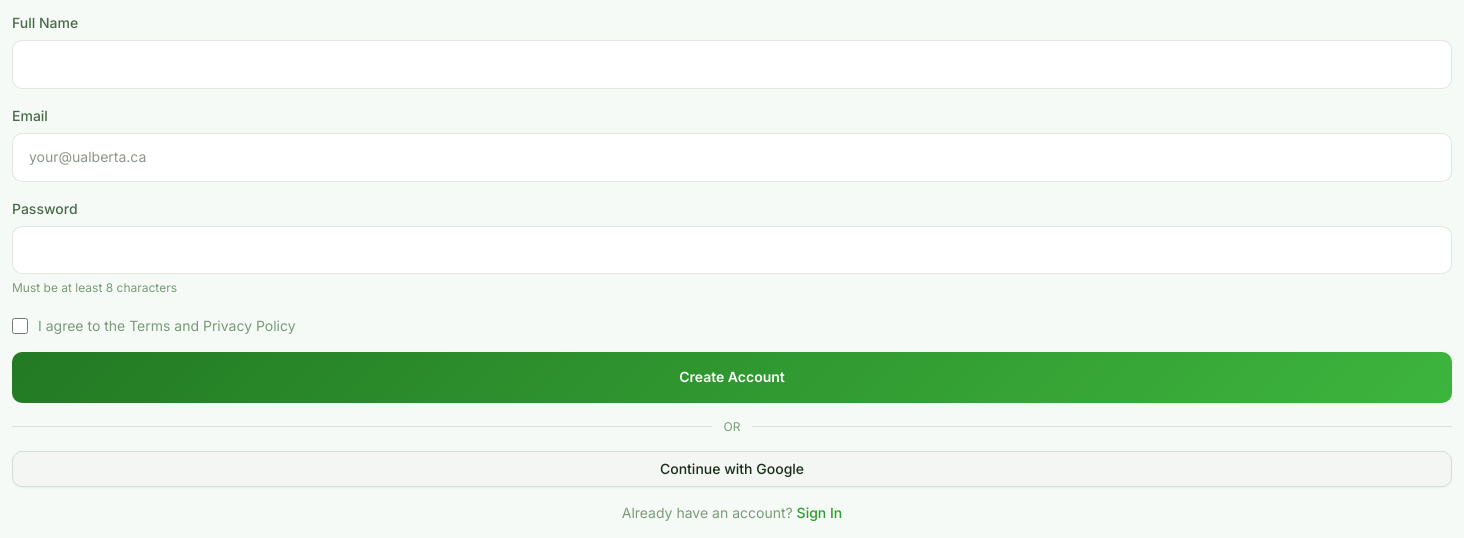
Scenario: SignUpForm › success: handles successful registration
The width and height of the screenshot is (1464, 538).
Type "John Doe" into the field labelled "Full Name" at (732, 65), box [12,40,1452,89]
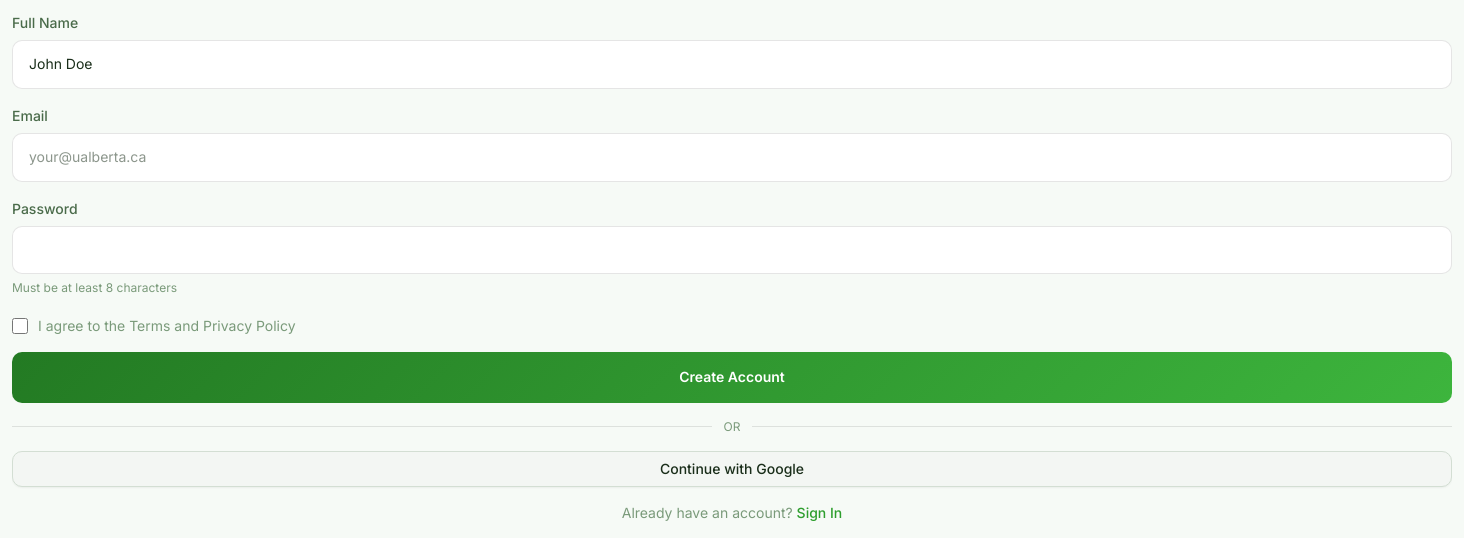
Type "john@ualberta.ca" into the field labelled "Email" at (732, 157), box [12,133,1452,182]
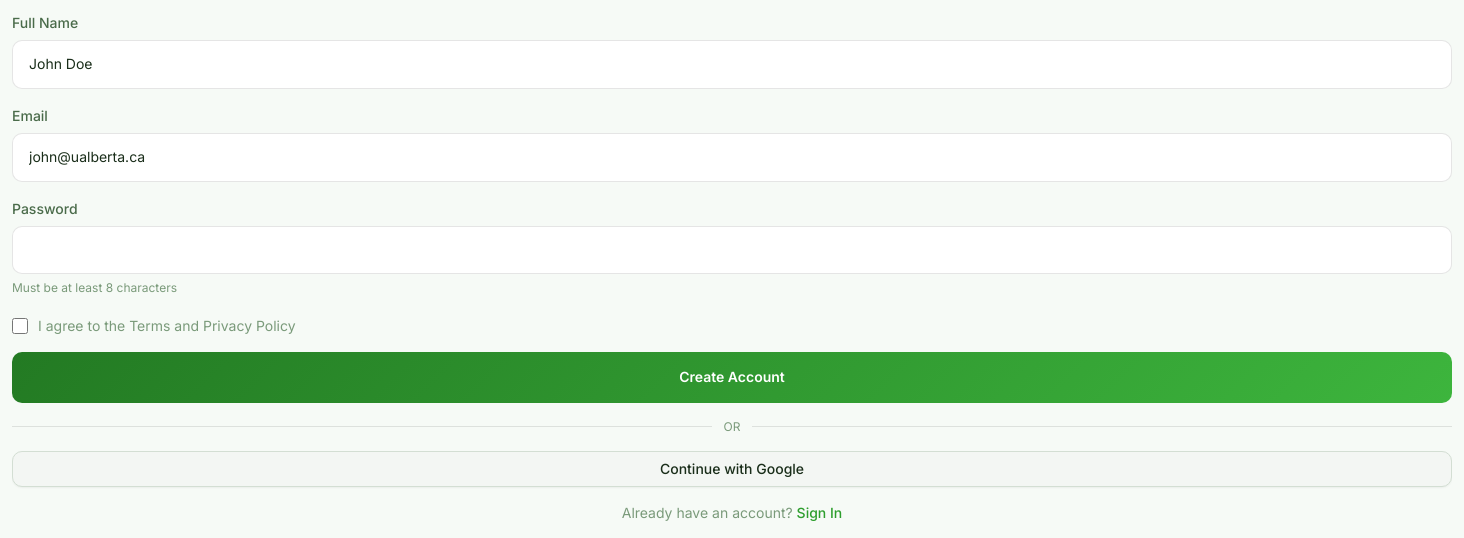
Type "password123" into the password field labelled "Password" at (732, 250), box [12,226,1452,274]
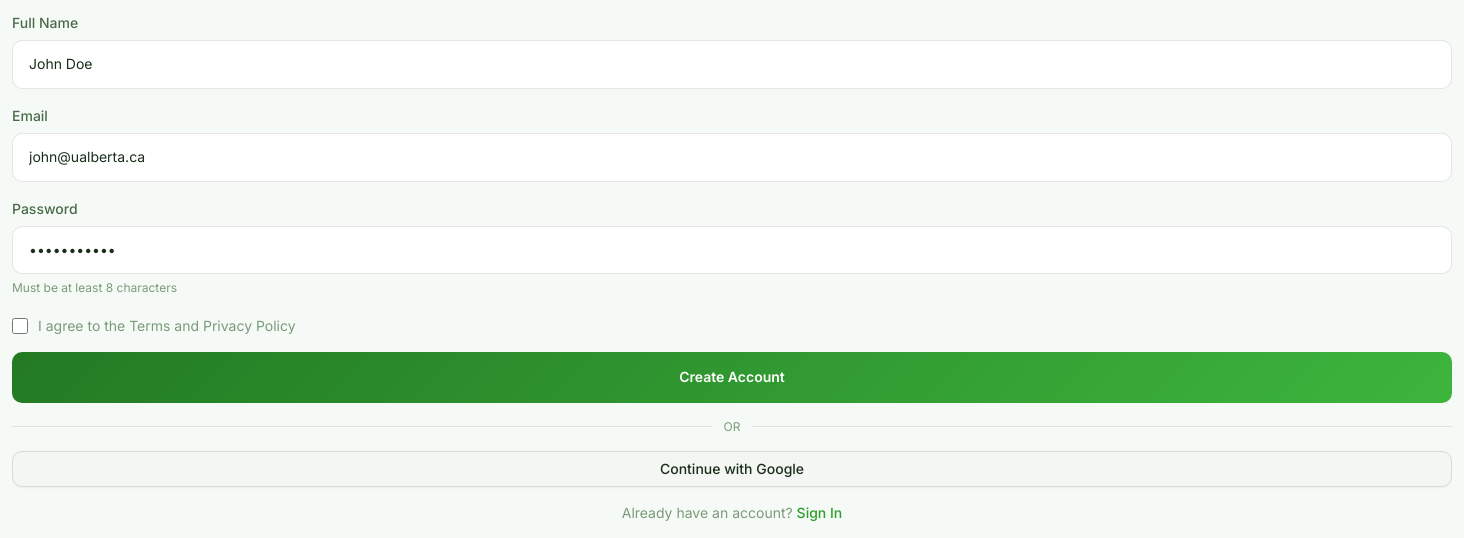
Click the checkbox labelled "I agree to the Terms and Privacy Policy" at (20, 326), box [12,318,28,334]
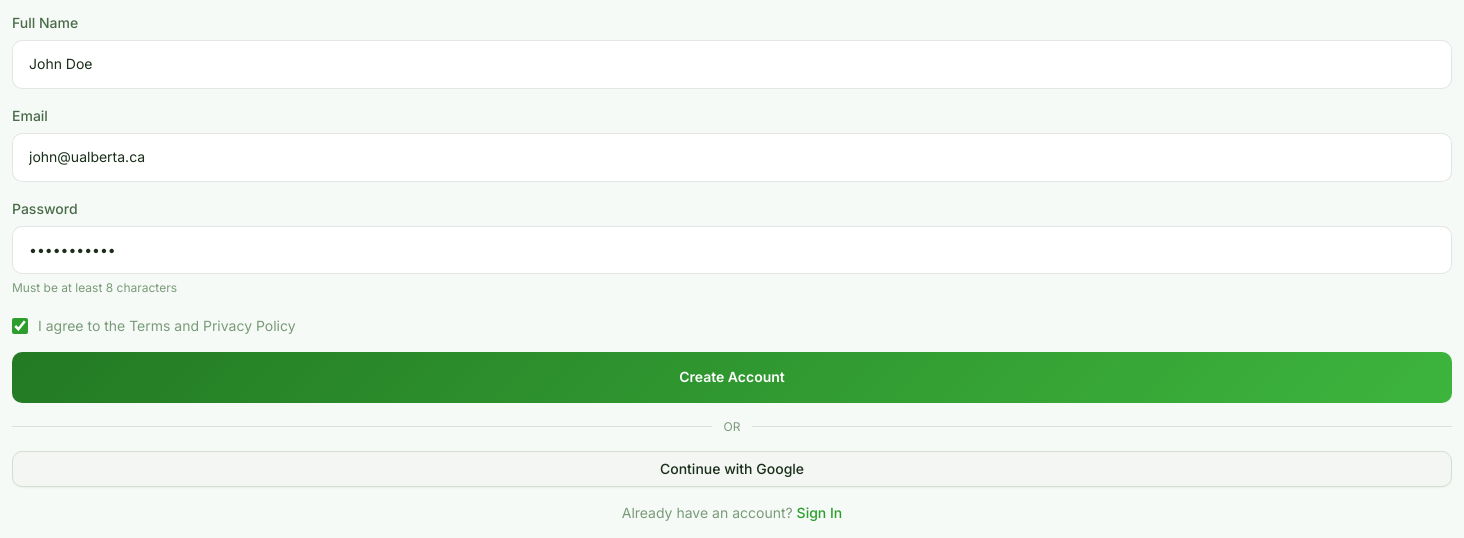
Click the button "Create Account" at (732, 378), box [12,352,1452,403]
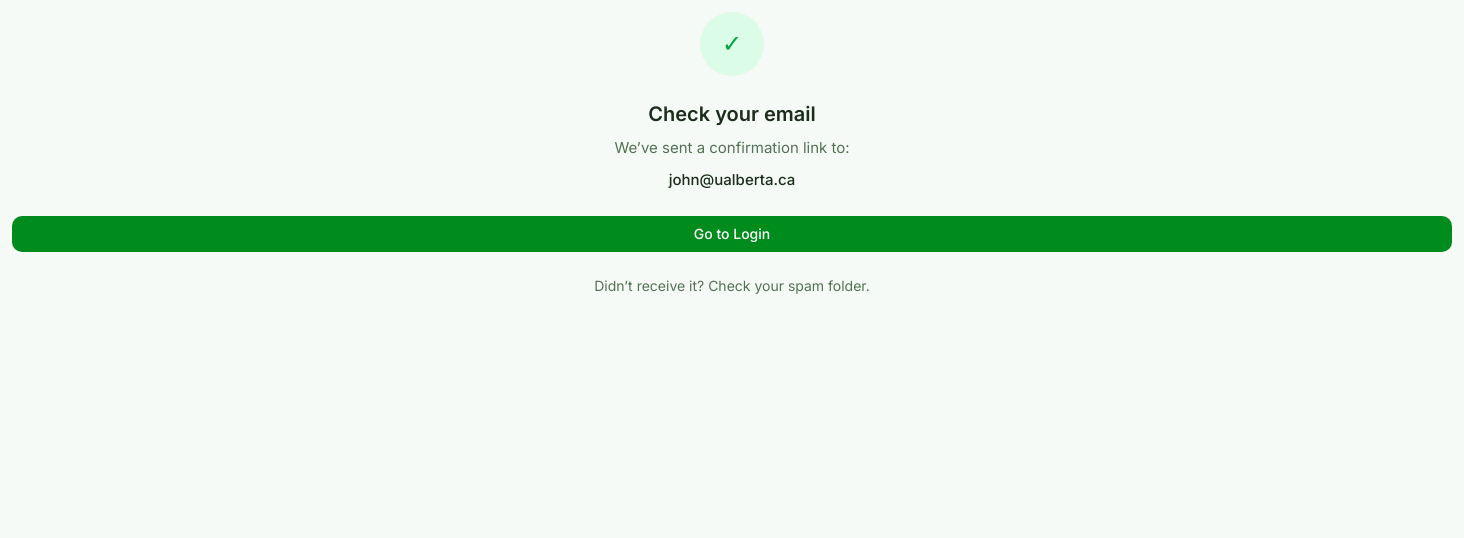
Result: the heading "Check your email" is shown at [648,102,816,126]
